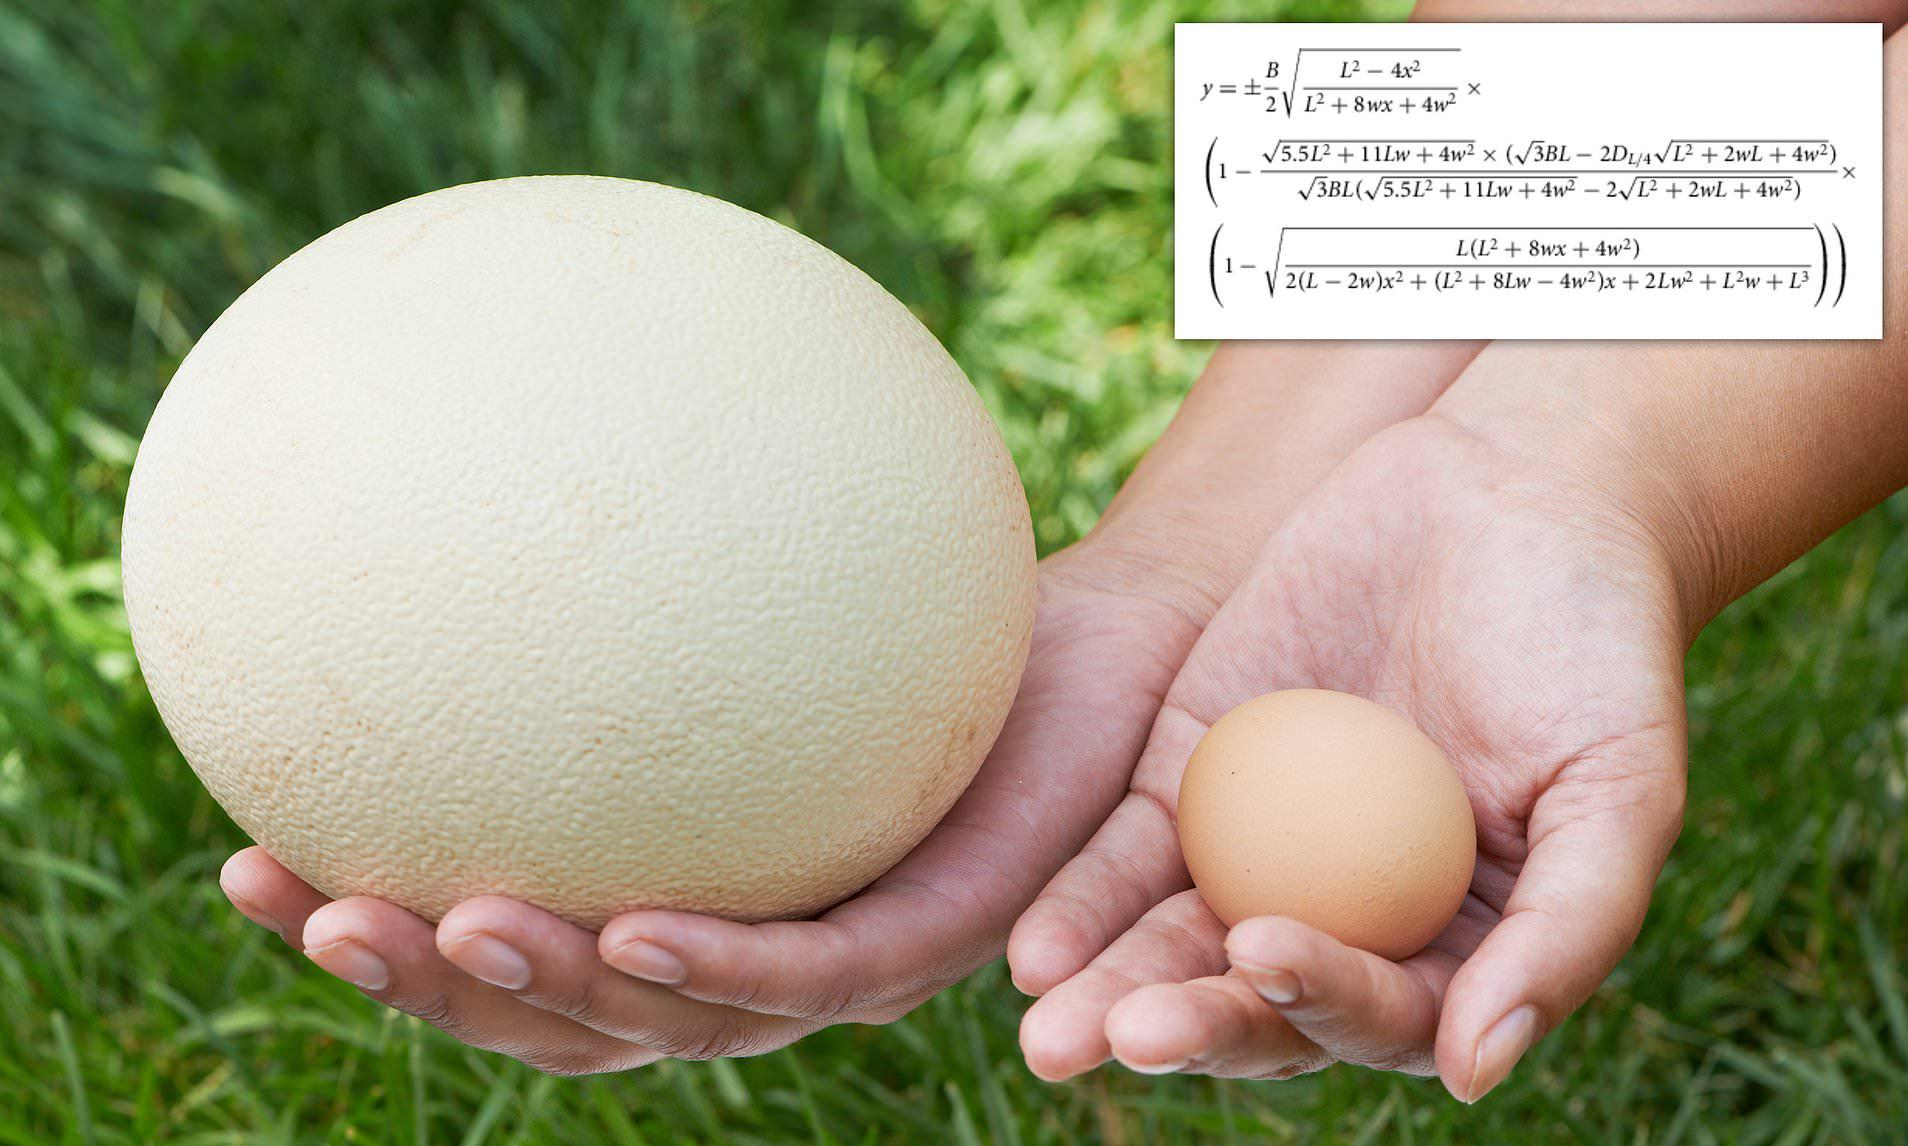egg: (110, 168, 1058, 947), (1167, 681, 1487, 958)
